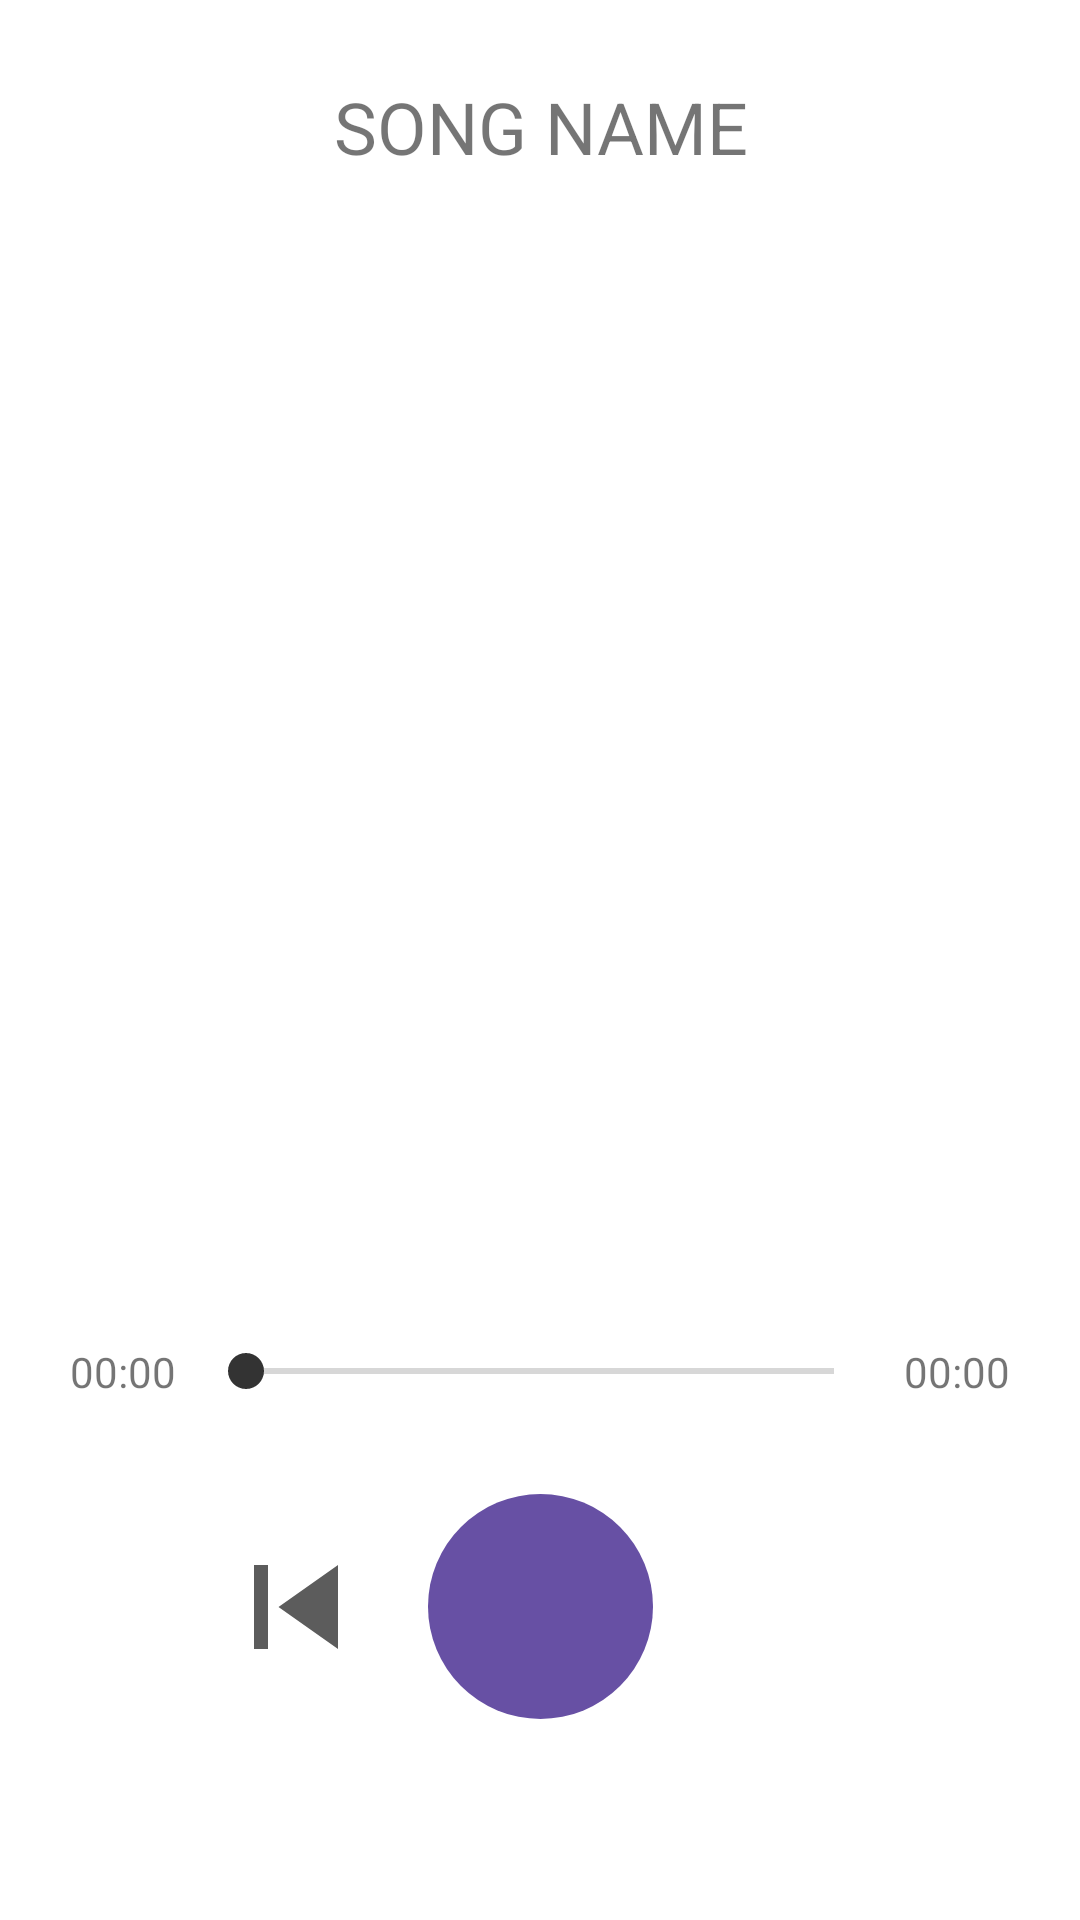

Named icons in this screenshot (1080*1920) and their centers, (x,y):
Skip to previous song: (296,1607)
